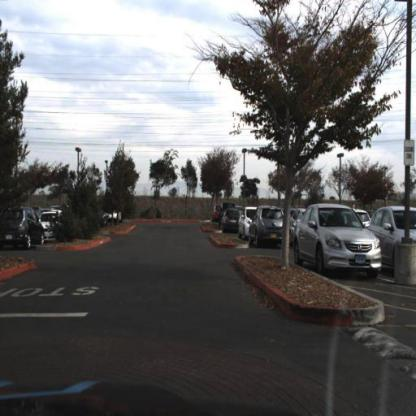car: (296, 205, 382, 280), (366, 202, 416, 271), (1, 213, 48, 258), (249, 206, 284, 248), (43, 208, 63, 244), (239, 206, 256, 240), (222, 208, 240, 236), (219, 200, 237, 227), (110, 210, 124, 224)
